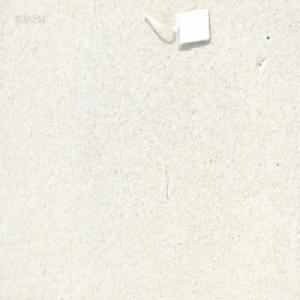LuggageTag: (138, 4, 211, 50)
